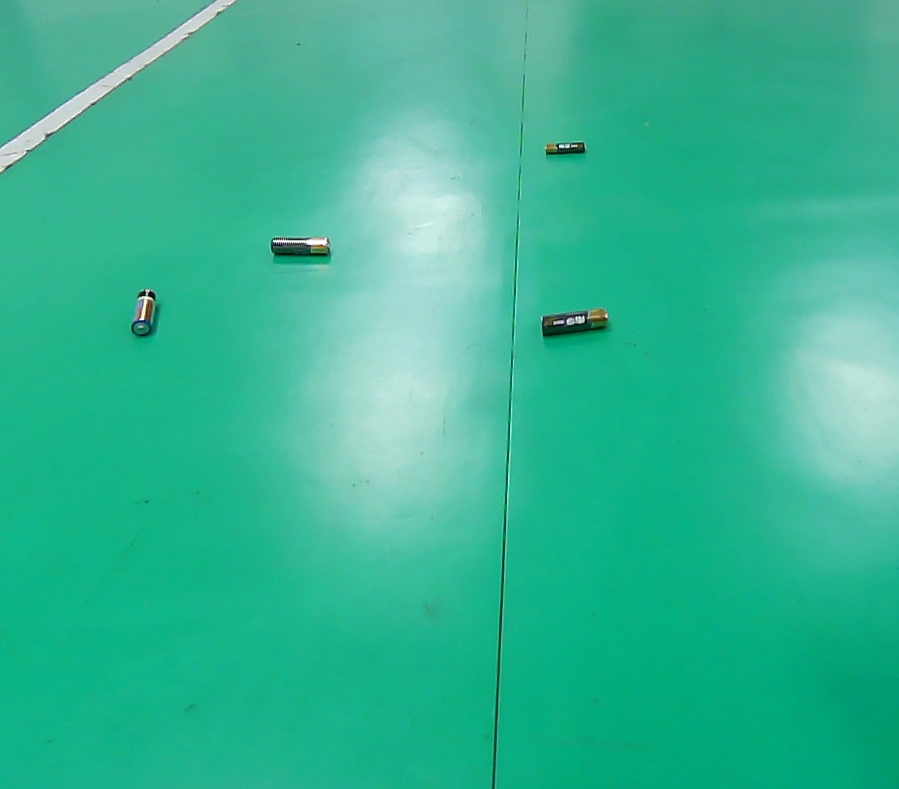battery: (510, 280, 641, 364), (242, 217, 355, 281), (111, 268, 172, 369), (517, 121, 611, 179)
